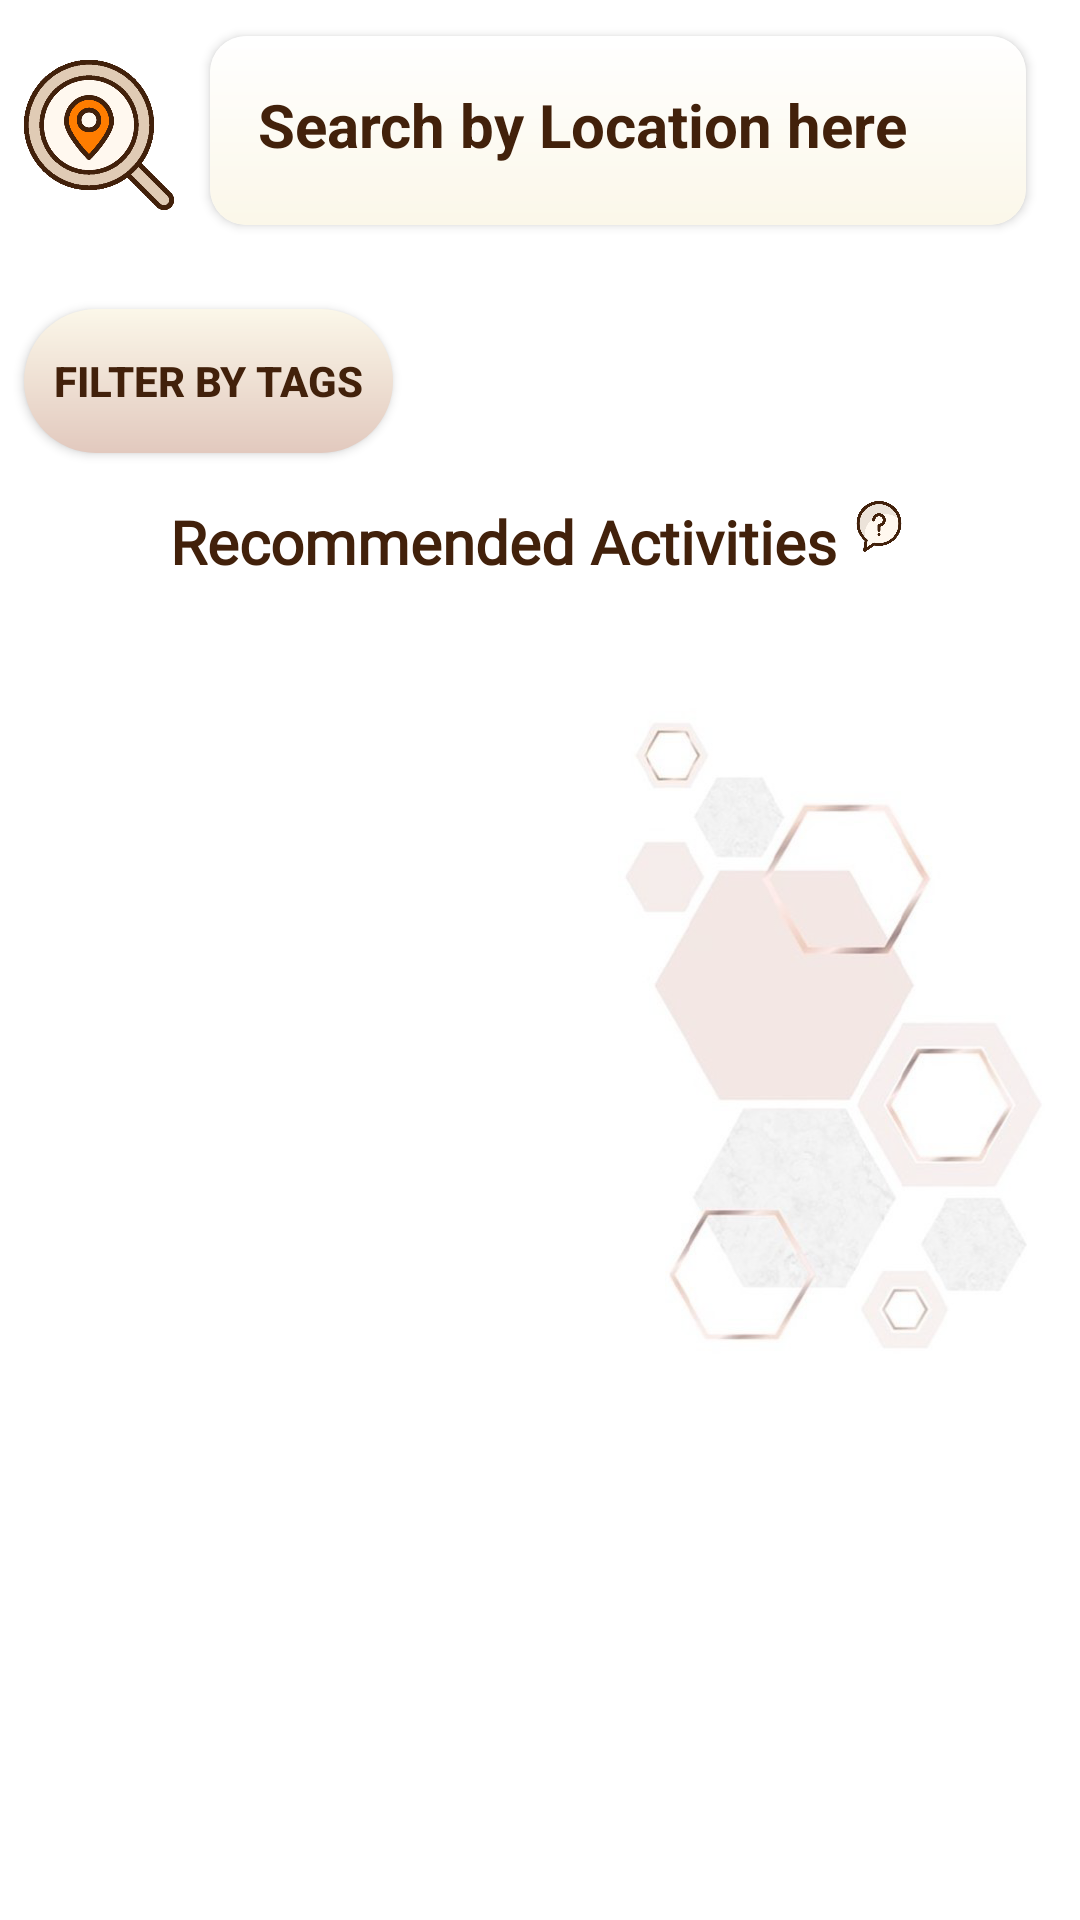

Icon bounding boxes for this 1080 x 1920 phone screenshot, format (x1, y1, x2, y2):
questionmark: (856, 501, 902, 552)
